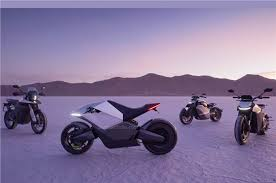motorcycle: (58, 101, 179, 158), (228, 86, 276, 149), (1, 84, 52, 132), (176, 92, 228, 126)
